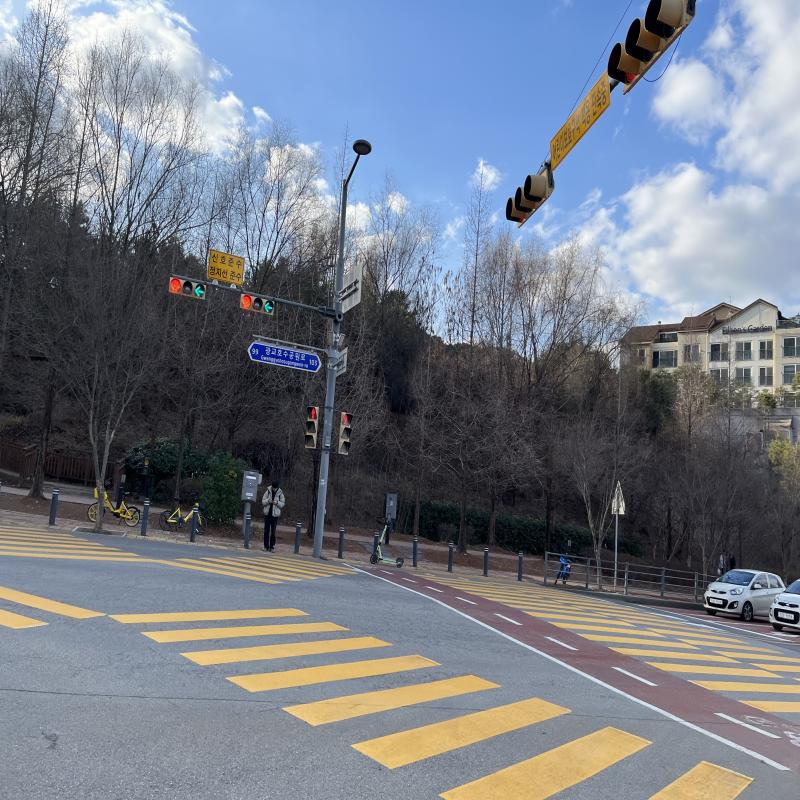left: (194, 284, 206, 299), (264, 300, 274, 314)
red: (169, 278, 183, 293), (241, 294, 252, 309)
